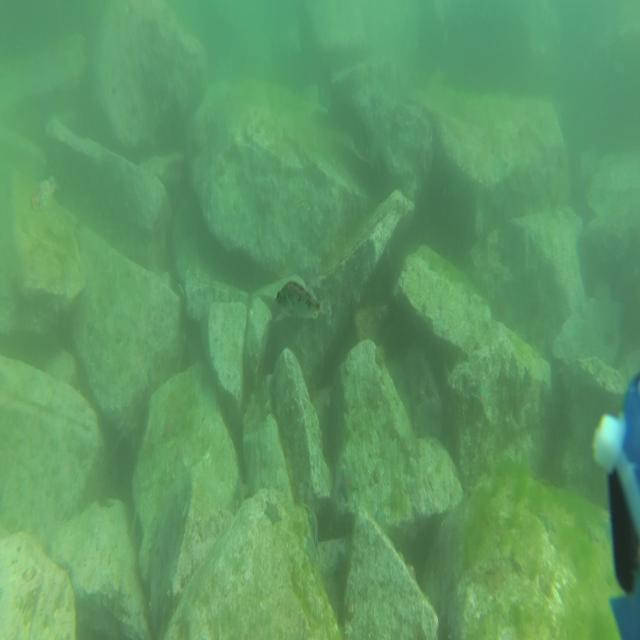holothurian: (373, 342, 388, 368)
starfish: (301, 500, 320, 547), (338, 466, 358, 501), (231, 474, 251, 508), (471, 381, 490, 415), (262, 499, 283, 527), (302, 533, 318, 569), (162, 417, 178, 442), (342, 395, 354, 416)
